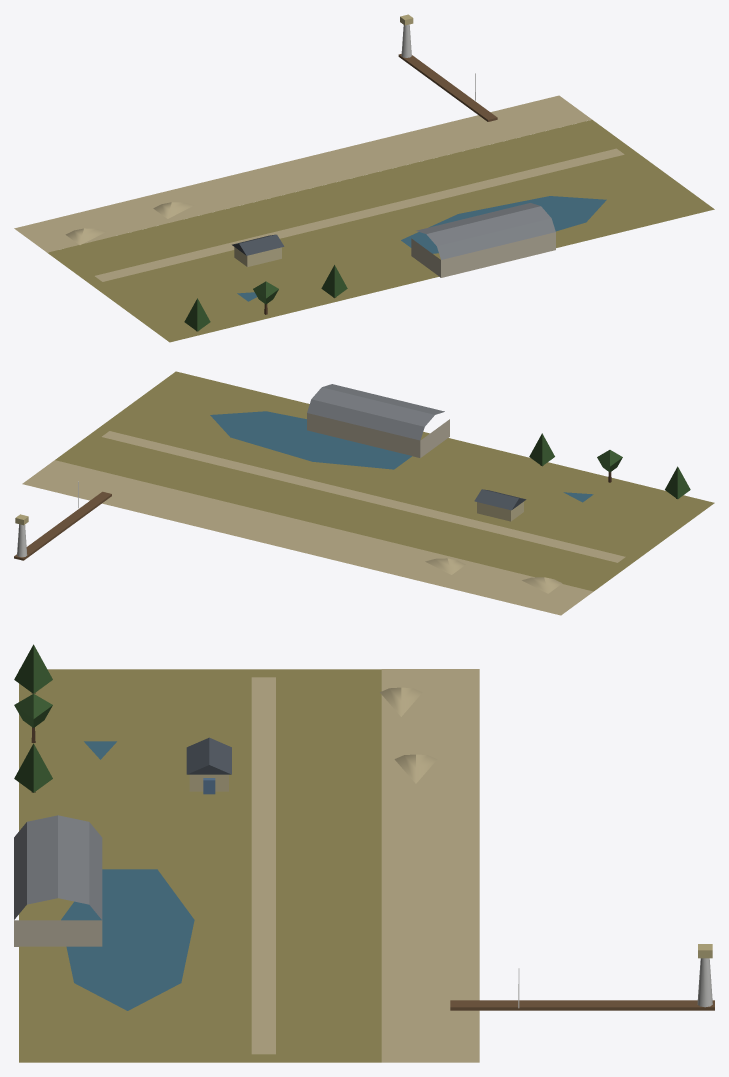
Rendered from mobile-low.glb.
The picture shows the model from 3 angles, top to bottom: view 1: azimuth 30°, elevation 25°; view 2: azimuth 150°, elevation 25°; view 3: azimuth 270°, elevation 25°; orthographic projection. The views are drawn at different scales.
Visible parts, largest first — view 1: lm.crissy-field; view 2: lm.crissy-field; view 3: lm.crissy-field.
Part boxes in pixels (box(x1,y1,x2,y2)): lm.crissy-field: box(14, 14, 714, 342); lm.crissy-field: box(14, 371, 714, 615); lm.crissy-field: box(14, 644, 714, 1062).
Size of the model in its own units: 190 by 15.2 by 143.
